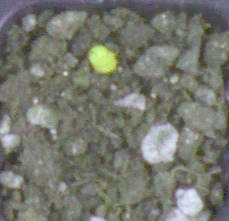pepper seed: (27, 7, 147, 81)
